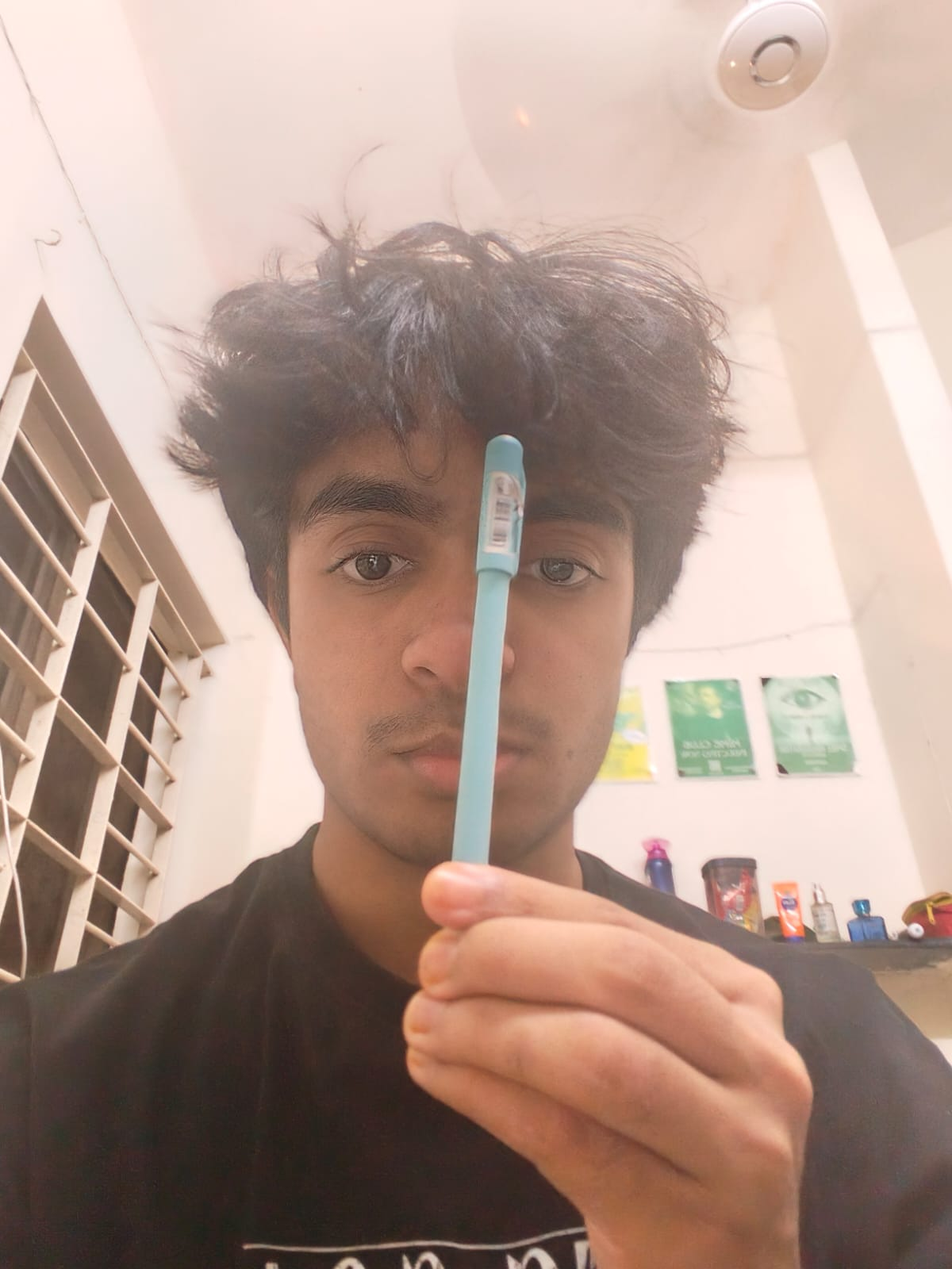pen: (423, 424, 547, 927)
